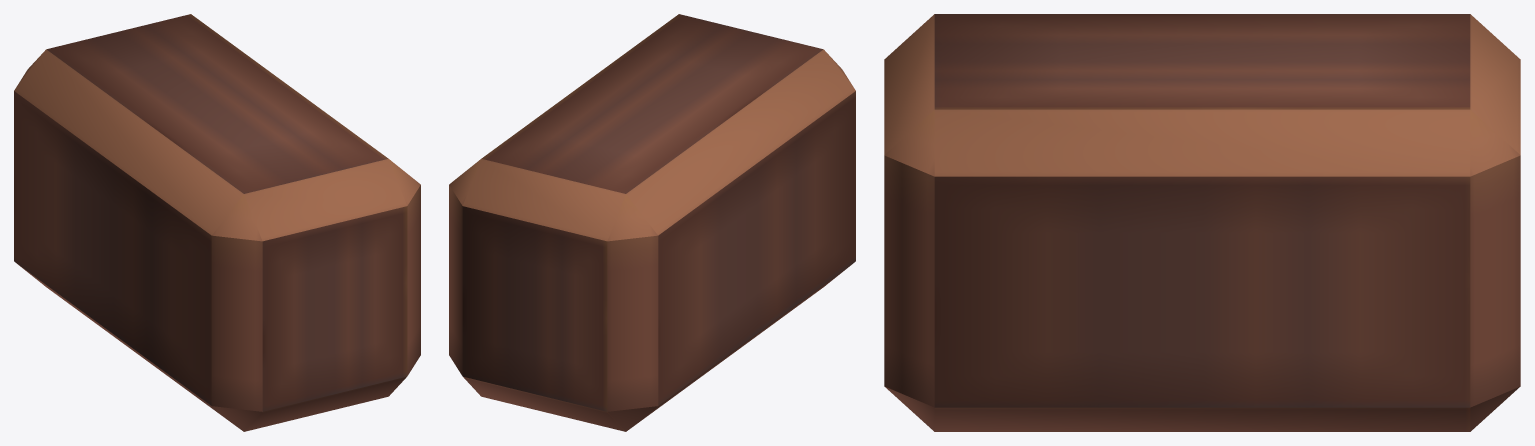
File: crate_v2.fbx
The picture shows the model from 3 angles, left to right: view 1: azimuth 30°, elevation 25°; view 2: azimuth 150°, elevation 25°; view 3: azimuth 270°, elevation 25°; orthographic projection. The views are drawn at different scales.
Visible parts, largest first — view 1: crate_v2; view 2: crate_v2; view 3: crate_v2.
Boxes of the visible parts, left/top/right/bottom form: crate_v2: left=14, top=14, right=420, bottom=431; crate_v2: left=449, top=14, right=855, bottom=431; crate_v2: left=884, top=14, right=1520, bottom=431.
Bounding box in the file's own units: 106 × 115 × 206.
